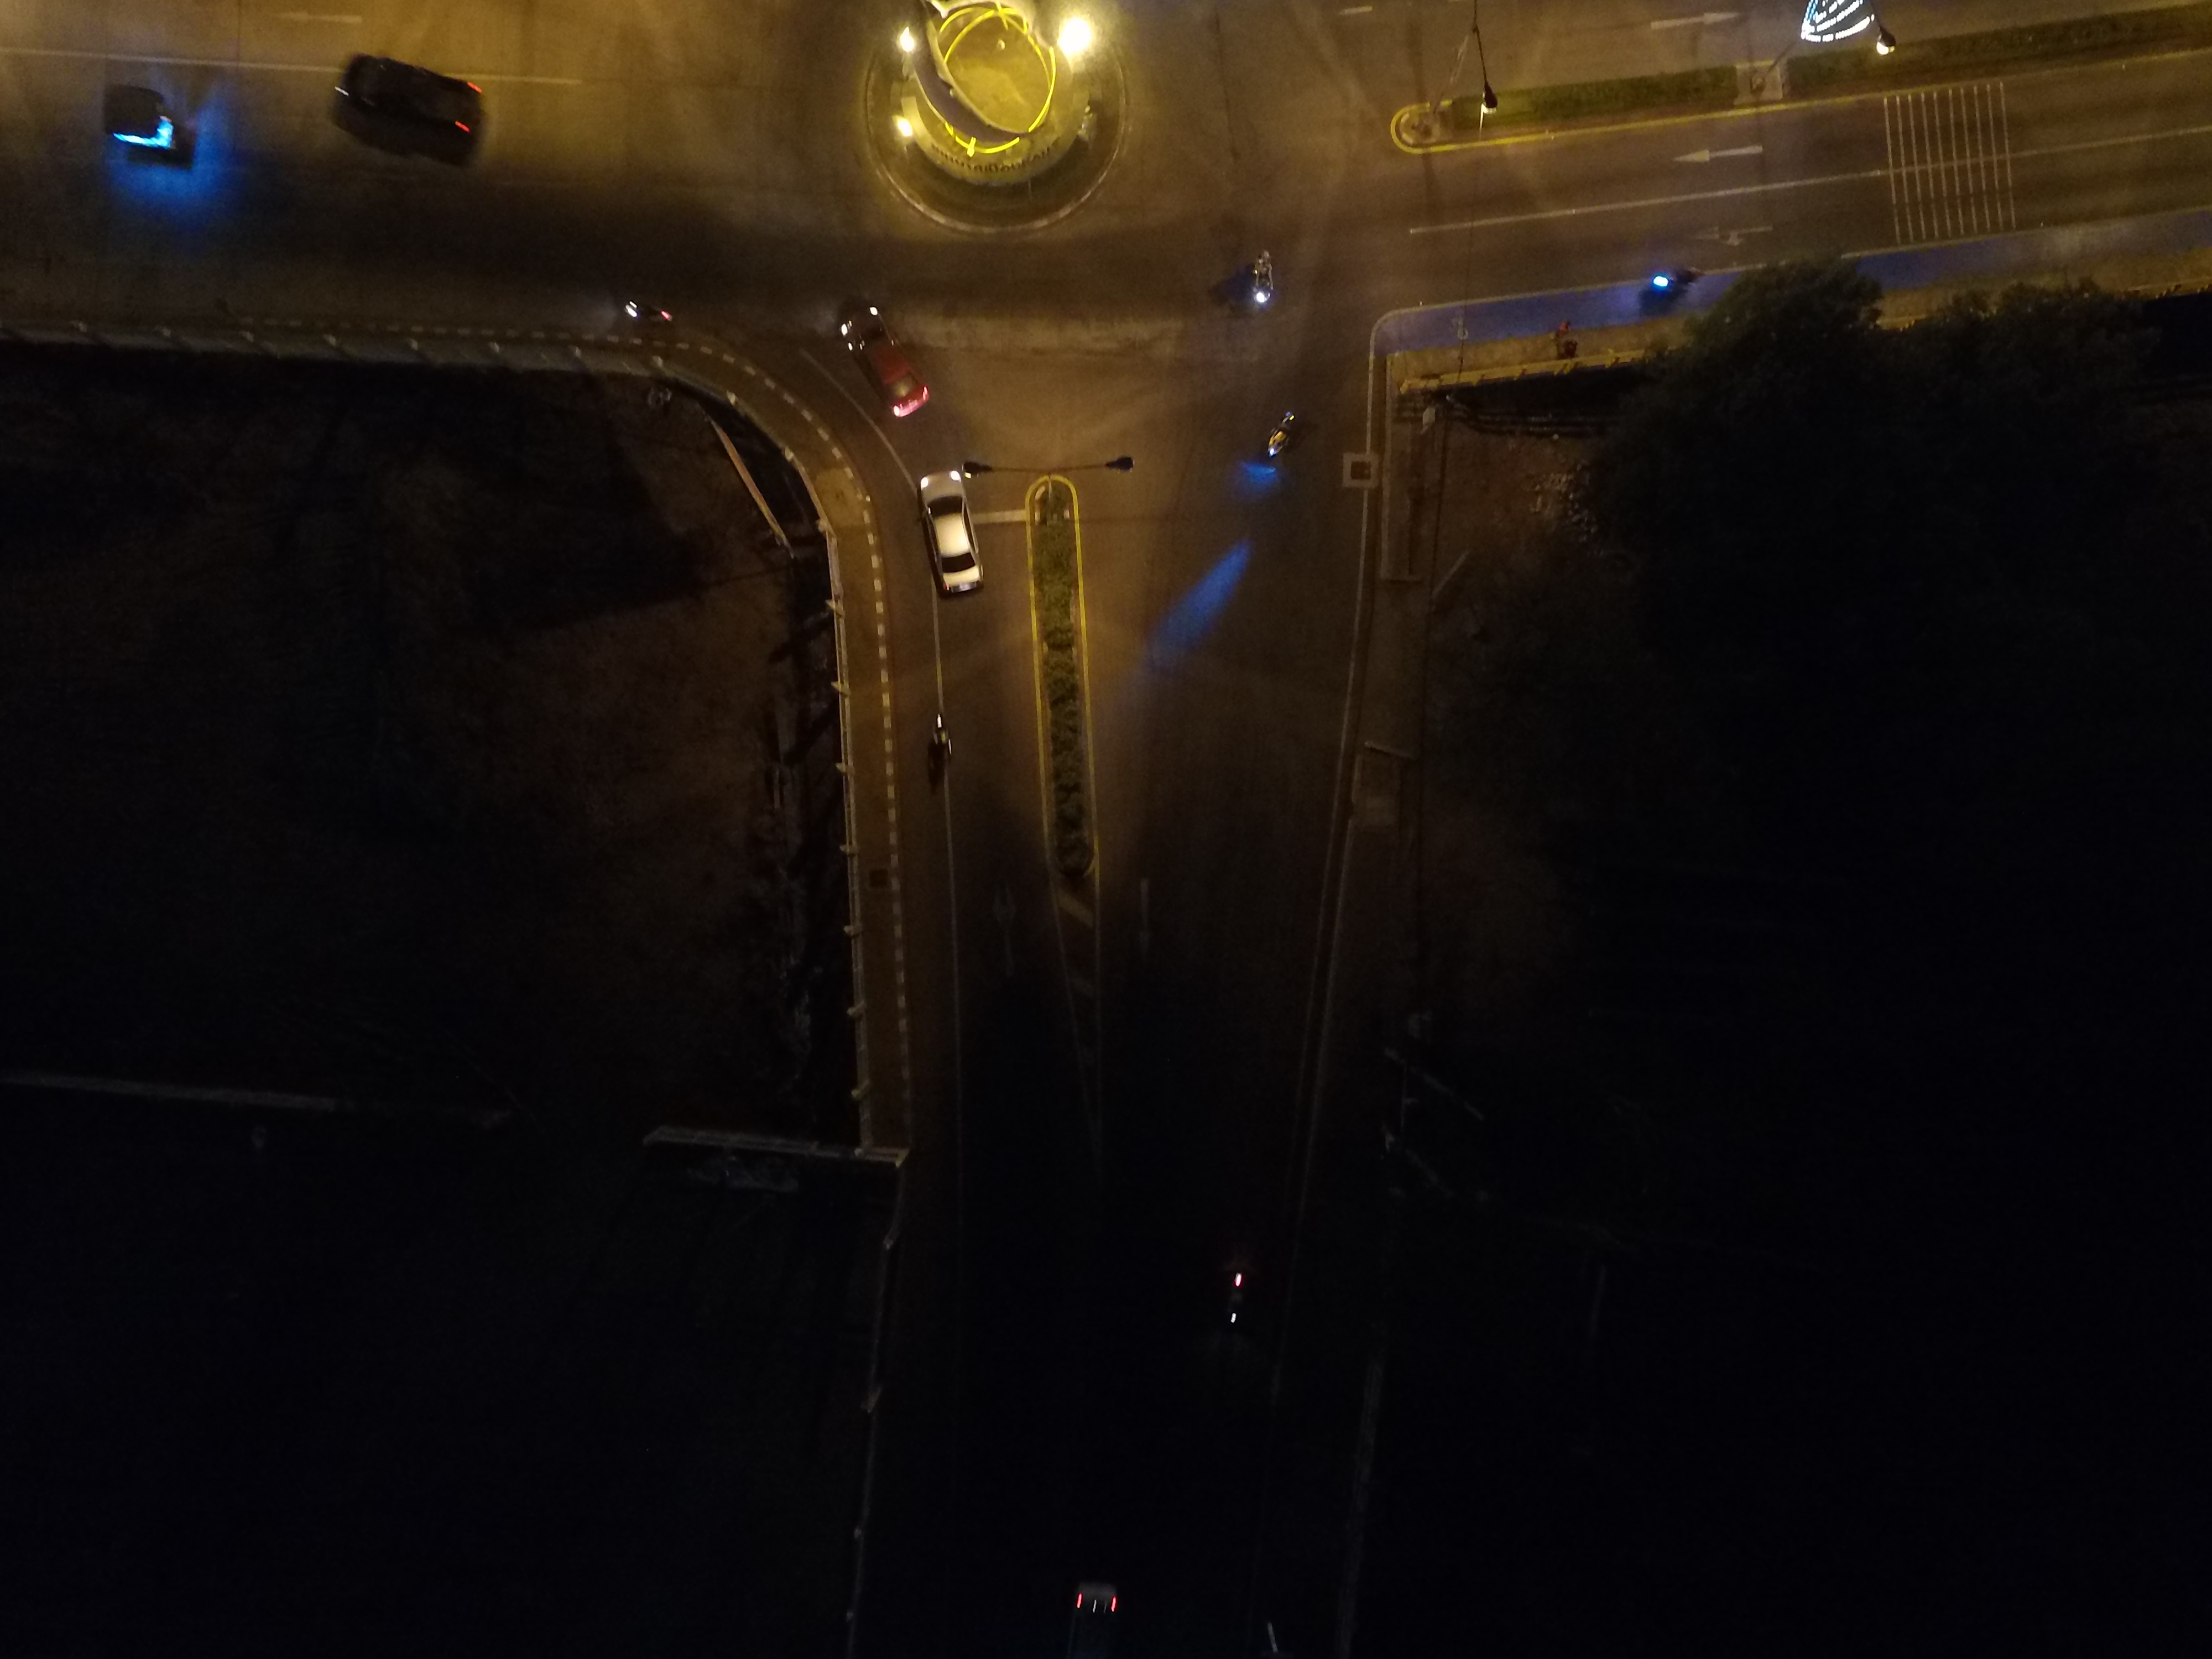car: (319, 26, 496, 188), (831, 284, 939, 451), (897, 444, 1005, 610)
